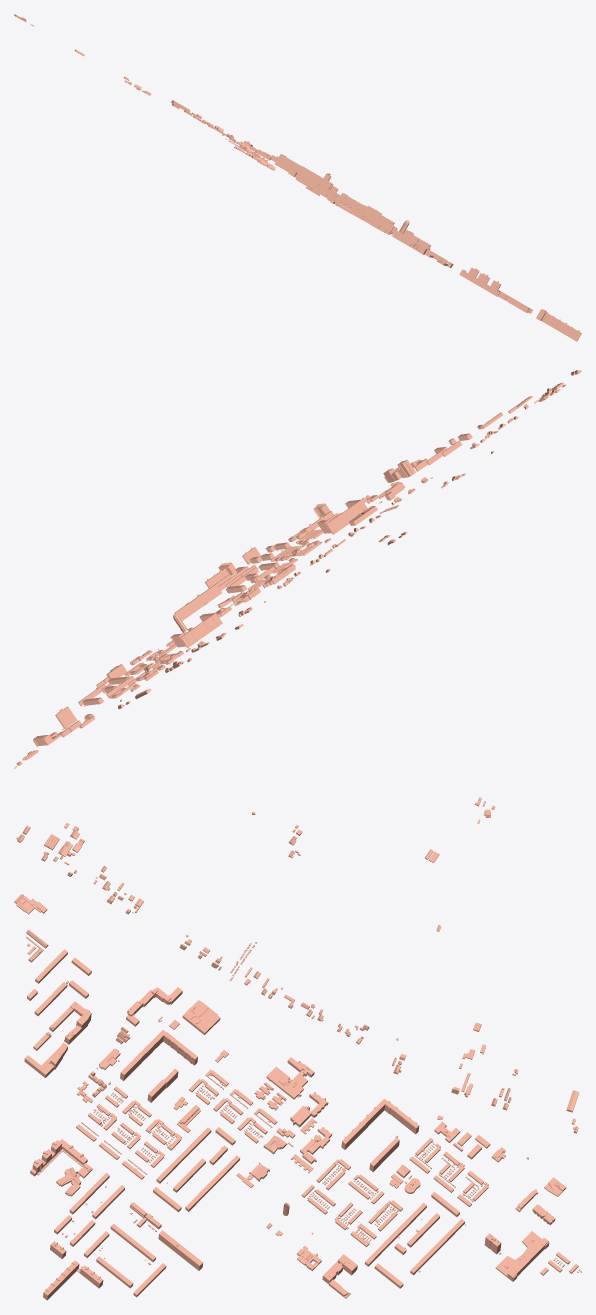
3 views of the same model, one above another, from view 1: azimuth 30°, elevation 25°; view 2: azimuth 150°, elevation 25°; view 3: azimuth 270°, elevation 25° (orthographic). The views are drawn at different scales.
Size of the model in its own units: 1071 by 767 by 1272.
